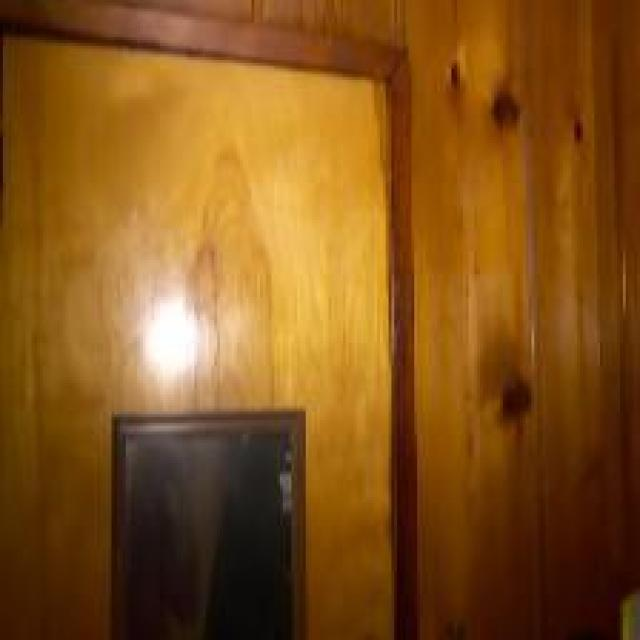other: (129, 287, 237, 407)
